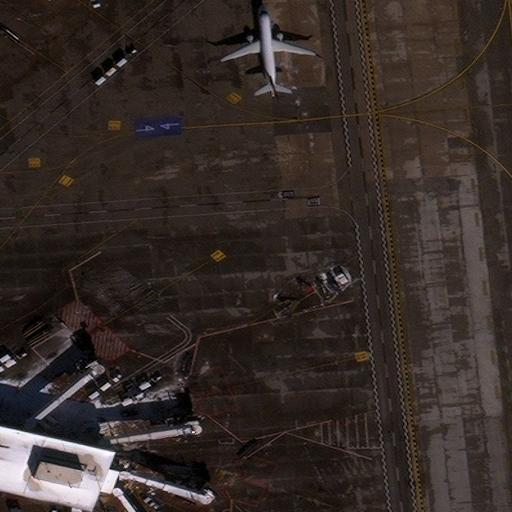Medium Civil Transport: (223, 11, 313, 95)
